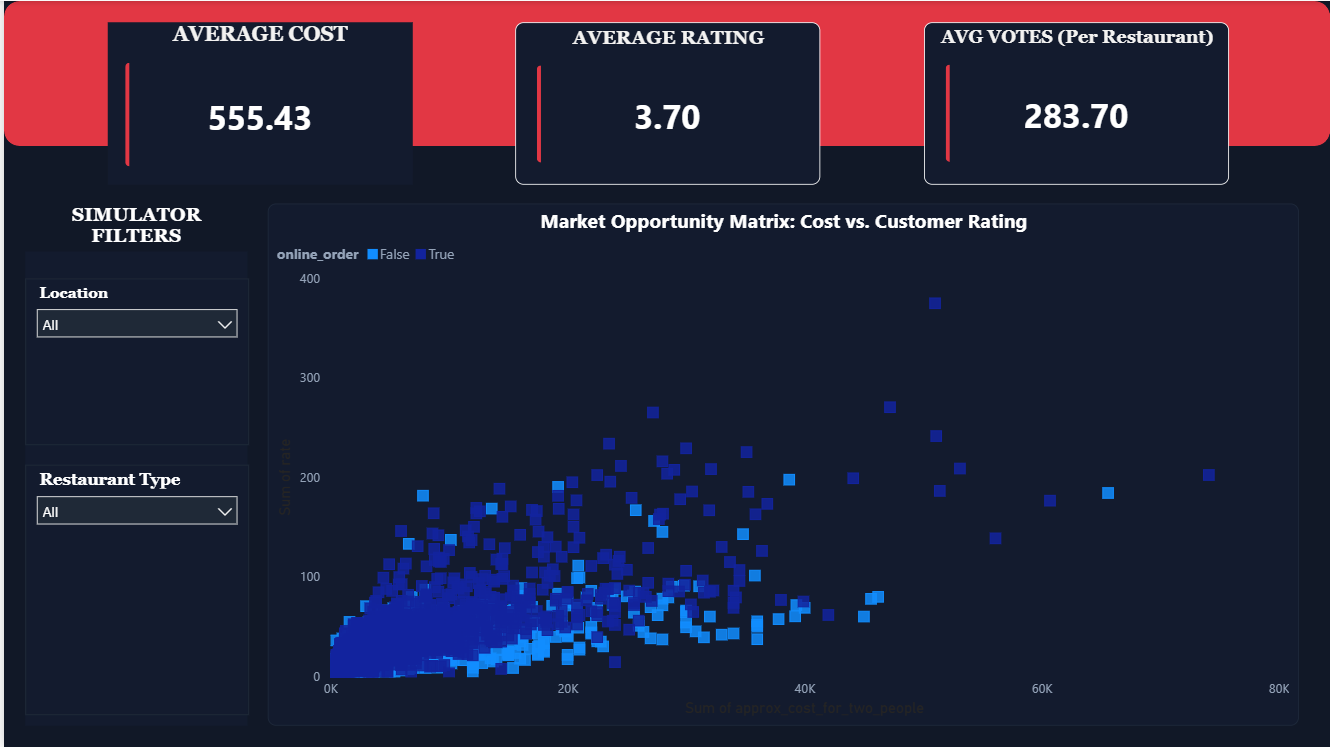

The page's visual inventory and layout, read from the dashboard file:
{"tool":"powerbi","page":{"name":"The Investor Interactive Simulator","canvas":[1280,720],"ordinal":1},"visuals":[{"type":"shape","title":"SIMULATOR FILTERS","box":[20.5,195.4,214.7,504.3],"z":0},{"type":"shape","box":[0,0,1280,139.9],"z":1000},{"type":"cardVisual","title":"AVERAGE COST","fields":{"Data":["Avg(production_zomato.approx_cost_for_two_people)"]},"box":[100,20.5,294.4,156.8],"z":2000},{"type":"cardVisual","title":"AVERAGE RATING","fields":{"Data":["production_zomato.Average Rating"]},"box":[494,20.5,294.4,156.8],"z":3000},{"type":"cardVisual","title":"AVG VOTES (Per Restaurant)","fields":{"Data":["Avg(production_zomato.votes)"]},"box":[888,20.5,294.4,156.8],"z":4000},{"type":"slicer","title":"Zomato analytics","fields":{"Values":["production_zomato.location"]},"box":[20,267.8,216,160.5],"z":5000},{"type":"slicer","title":"Cuisine style","fields":{"Values":["production_zomato.rest_type"]},"box":[20,447.6,216,241.3],"z":6000},{"type":"scatterChart","title":"Market Opportunity Matrix: Cost vs. Customer Rating","fields":{"Category":["production_zomato.name"],"X":["Sum(production_zomato.approx_cost_for_two_people)"],"Y":["Sum(production_zomato.rate)"],"Series":["production_zomato.online_order"]},"box":[254,196,995,504],"z":7000}]}

Visuals, with their boxes in screenshot pixels (x1, y1, x2, y2), scaled from the page's 1280x720 canvas onto the 1330x747 screenshot:
"SIMULATOR FILTERS" shape: Rect(21, 203, 244, 726)
shape: Rect(0, 0, 1329, 145)
"AVERAGE COST" cardVisual: Rect(104, 21, 410, 184)
"AVERAGE RATING" cardVisual: Rect(513, 21, 819, 184)
"AVG VOTES (Per Restaurant)" cardVisual: Rect(923, 21, 1229, 184)
"Zomato analytics" slicer: Rect(21, 278, 245, 444)
"Cuisine style" slicer: Rect(21, 464, 245, 715)
"Market Opportunity Matrix: Cost vs. Customer Rating" scatterChart: Rect(264, 203, 1298, 726)
